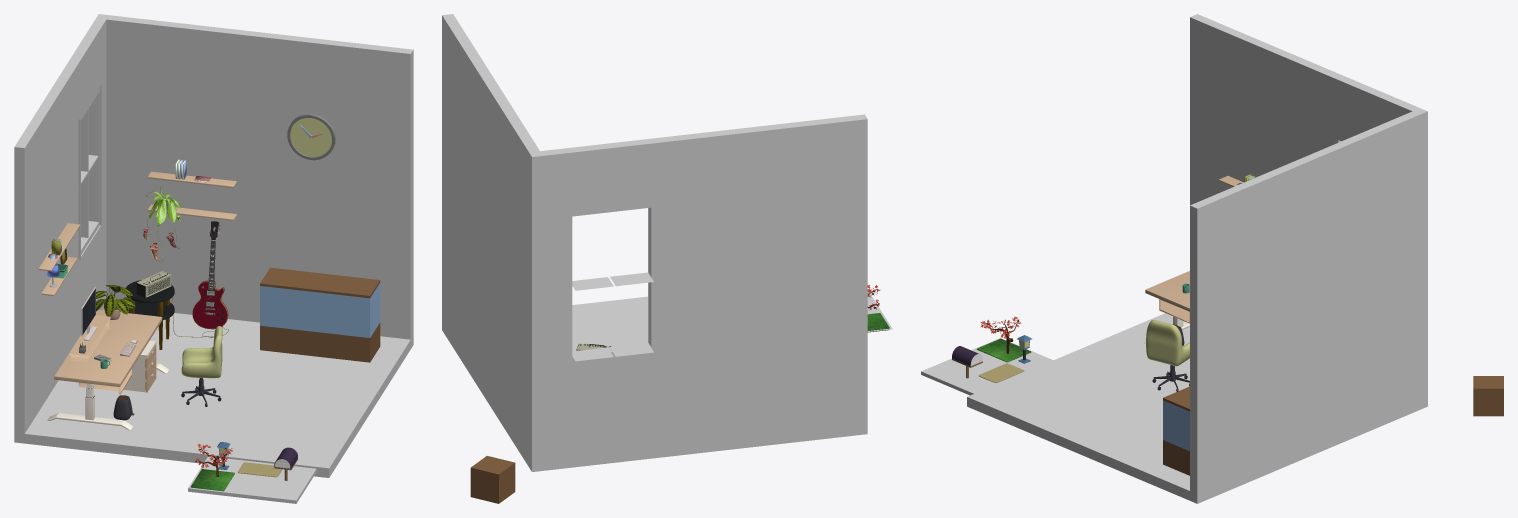
Rendered from FinalVersion9.glb.
3 renders of one model, left to right at view 1: azimuth 30°, elevation 25°; view 2: azimuth 150°, elevation 25°; view 3: azimuth 270°, elevation 25°, orthographic. The views are drawn at different scales.
Visible parts, largest first — view 1: Body, Aquarium, Desks, Shelves, Mini Floor, Guitar, Table Stuff, Floor Items, Clock, Chair, Grass, Computer (+2 smaller); view 2: Body, Cube; view 3: Body, Mini Floor, Aquarium, Chair, Desks, Cube, Grass.
Part boxes in pixels (x1,y1,x2,y2): Body: (14,14,413,477); Aquarium: (260,267,380,362); Desks: (47,280,174,430); Shelves: (38,159,236,295); Mini Floor: (188,456,316,503); Guitar: (136,221,228,337); Table Stuff: (69,285,138,368); Floor Items: (113,340,221,420); Clock: (287,114,335,160); Chair: (181,326,222,378); Grass: (190,469,234,491); Computer: (81,287,96,340); Body: (442,14,867,471); Cube: (470,456,515,503); Body: (967,14,1427,503); Mini Floor: (921,338,1053,395); Aquarium: (1163,386,1189,475); Chair: (1146,320,1189,366); Desks: (1144,271,1189,343); Cube: (1473,376,1503,416); Grass: (976,338,1031,362).
Size of the model in its own units: 30.21 by 21.39 by 38.21.
Materials: 111 (19 with a texture image).
